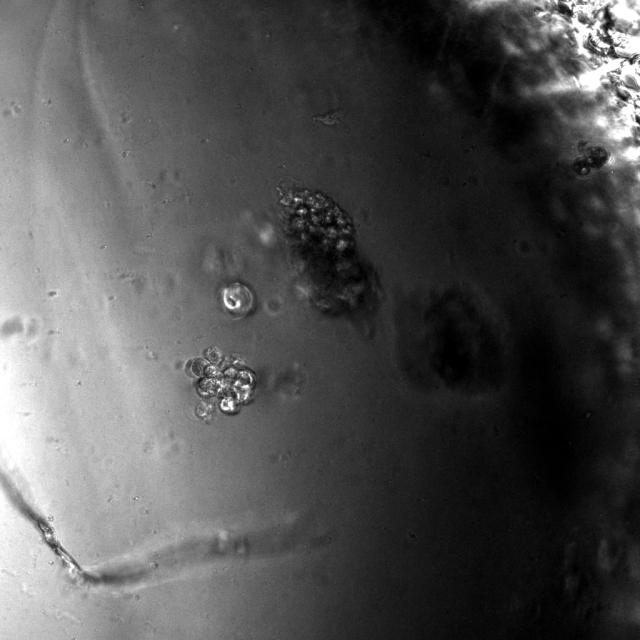organoid: (278, 186, 381, 334), (397, 284, 506, 395), (187, 348, 256, 419), (220, 282, 254, 317)
